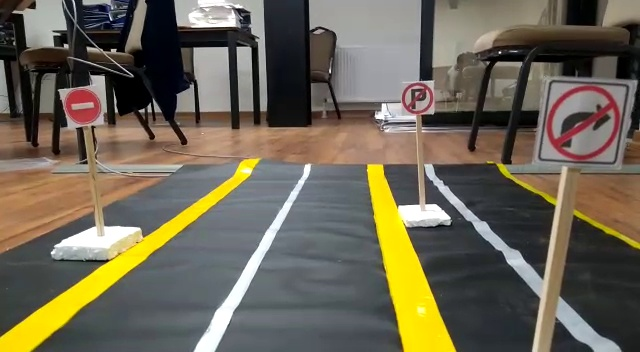girisi_olmayan_yol: (61, 86, 103, 124)
park_yapilmaz: (399, 82, 435, 116)
saga_donulmez: (545, 76, 618, 162)
